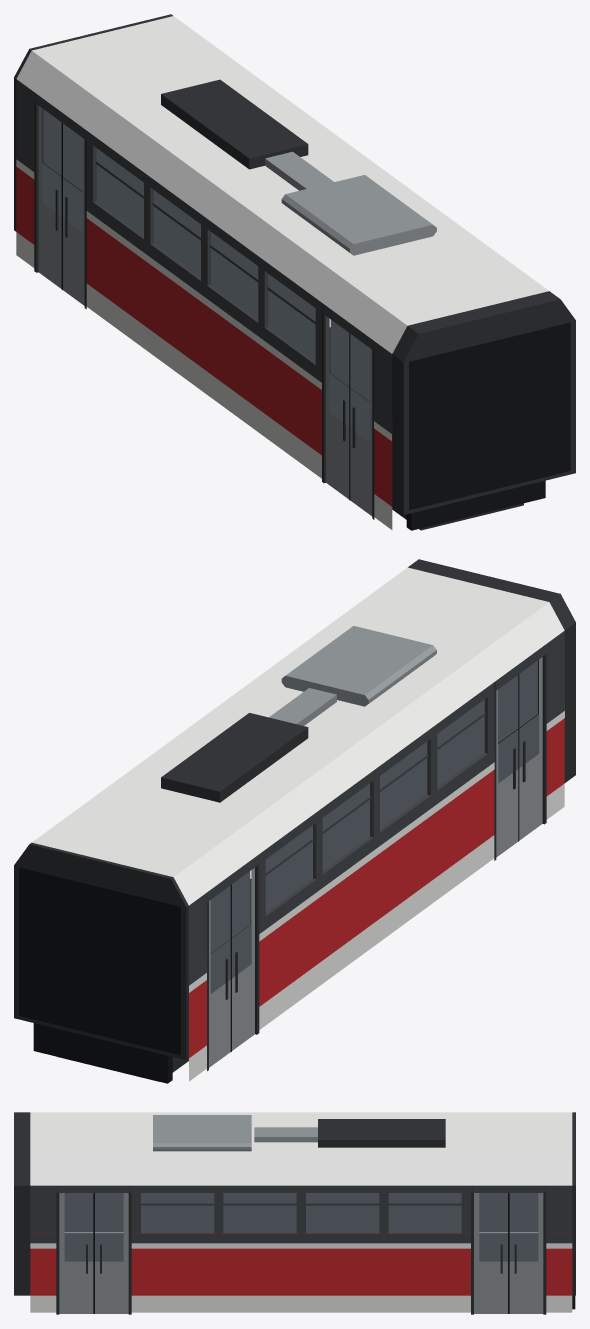
3 renders of one model, top to bottom at view 1: azimuth 30°, elevation 25°; view 2: azimuth 150°, elevation 25°; view 3: azimuth 270°, elevation 25°, orthographic. The views are drawn at different scales.
Parts seen in each view (by area): view 1: kt8d5-b; view 2: kt8d5-b; view 3: kt8d5-b.
Part boxes in pixels (<box>): kt8d5-b: <box>14,14,575,530</box>; kt8d5-b: <box>14,559,575,1083</box>; kt8d5-b: <box>14,1112,575,1314</box>.
Bounding box in the file's own units: 2.48 × 3.1 × 9.7.
